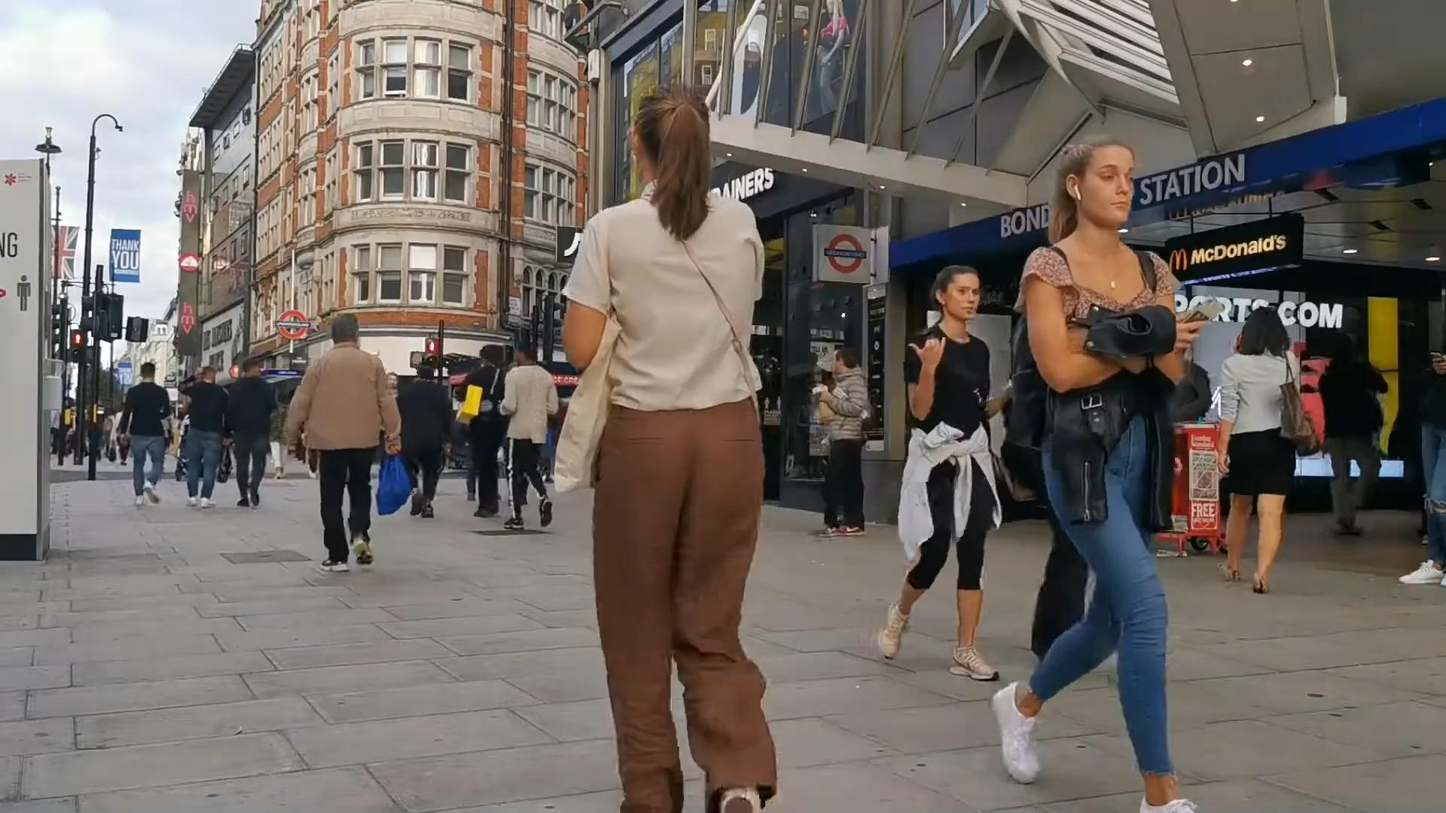no-helmet: (633, 81, 712, 240), (1047, 135, 1134, 245), (929, 264, 980, 327), (1240, 307, 1290, 359), (332, 313, 359, 346), (833, 347, 857, 374), (242, 358, 261, 376), (199, 366, 217, 383), (139, 362, 155, 381)
